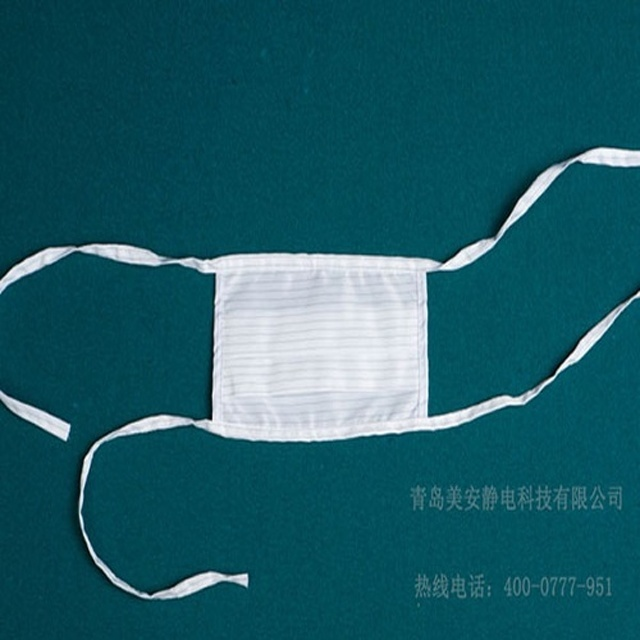mask: (189, 252, 450, 444)
